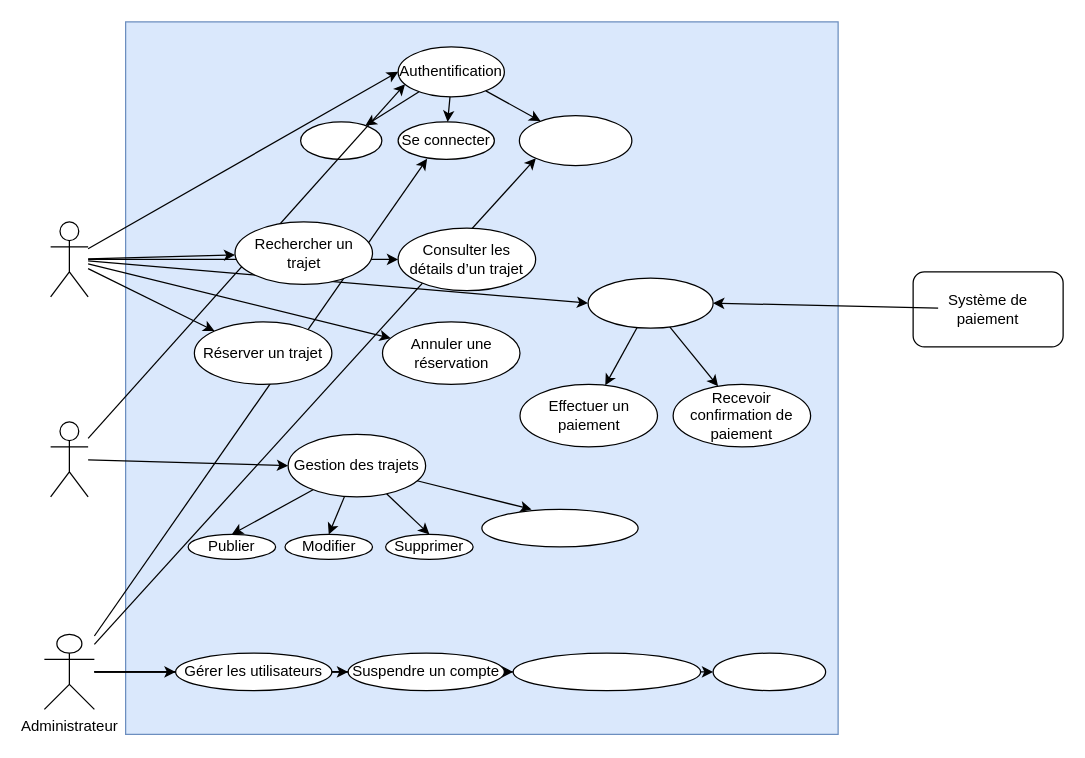
Image size: 1085x758. Some labels were removed from this diagram. Each missing label, with the centre of its shape:
"Conducteur" goes at pixel 68 459.
"Consulter les statistiques" goes at pixel 606 671.
"Consulter ses trajets" goes at pixel 559 527.
"Gérer les litiges" goes at pixel 769 671.
"Paiement" goes at pixel 650 302.
"Passager" goes at pixel 68 259.
"Se déconnecter" goes at pixel 575 140.
"S’inscrire" goes at pixel 340 140.
